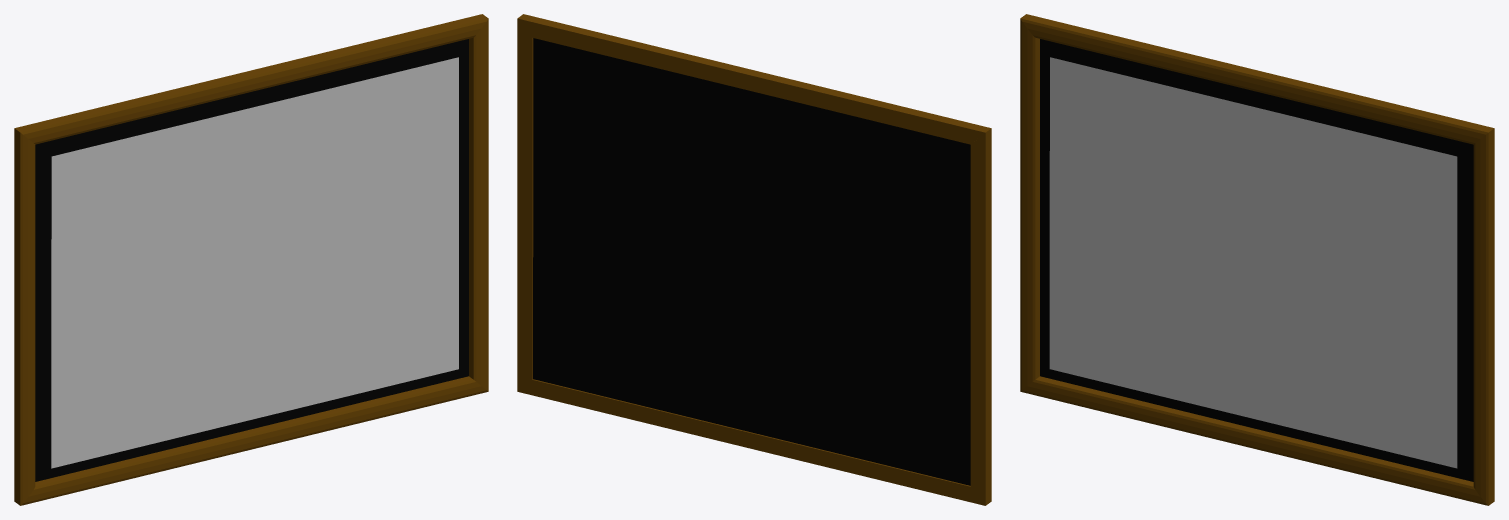
Rendered from TigerFrame.obj.
3 views of the same model, side by side, from view 1: azimuth 30°, elevation 25°; view 2: azimuth 150°, elevation 25°; view 3: azimuth 330°, elevation 25° (orthographic).
Visible parts, largest first — view 1: Photo_Cube, WoodFrame_Cylinder, Frame_Black; view 2: Frame_Black, WoodFrame_Cylinder; view 3: Photo_Cube, WoodFrame_Cylinder, Frame_Black.
Part boxes in pixels (box(x1,y1,x2,y2)): Photo_Cube: box(51, 57, 458, 468); WoodFrame_Cylinder: box(14, 14, 488, 505); Frame_Black: box(35, 39, 468, 481); Frame_Black: box(533, 38, 970, 485); WoodFrame_Cylinder: box(517, 14, 991, 505); Photo_Cube: box(1049, 57, 1457, 468); WoodFrame_Cylinder: box(1020, 14, 1494, 505); Frame_Black: box(1040, 39, 1473, 481).
Size of the model in its own units: 62.8 by 47.86 by 1.6.
